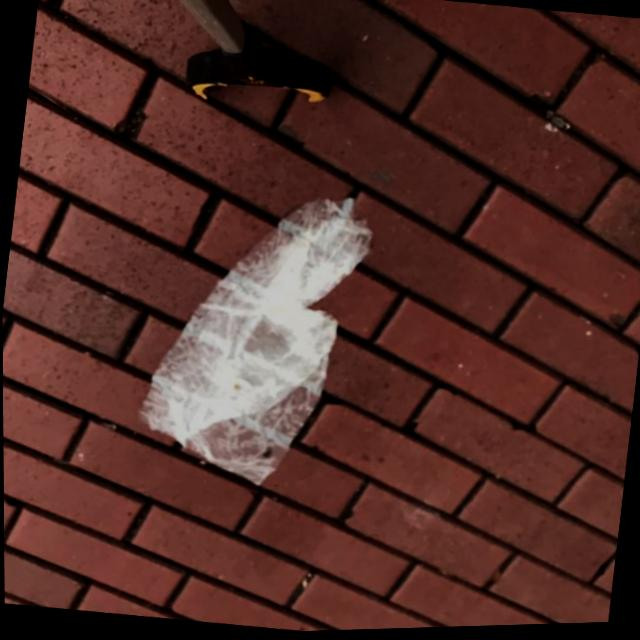Paper: (126, 176, 380, 503)
